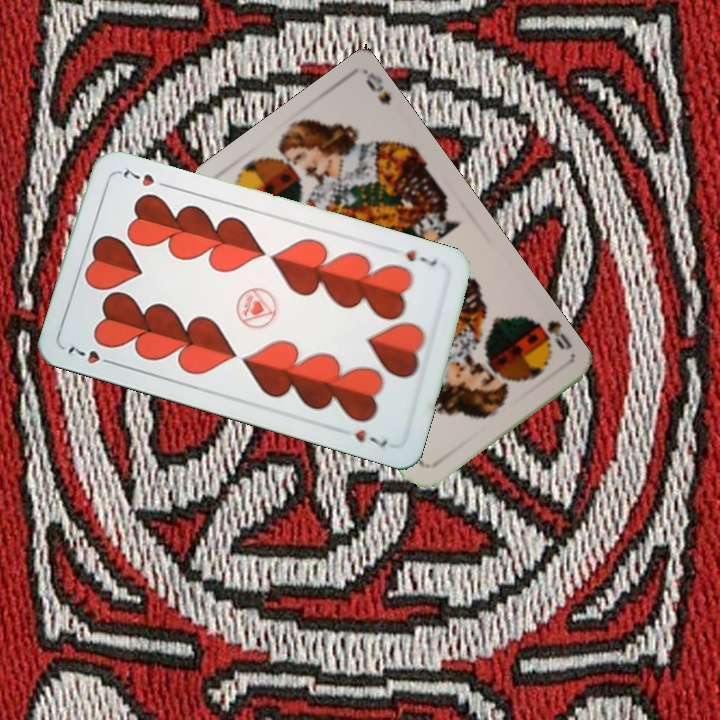H7: (63, 342, 119, 369), (401, 245, 440, 269)
SO: (525, 315, 575, 353)
